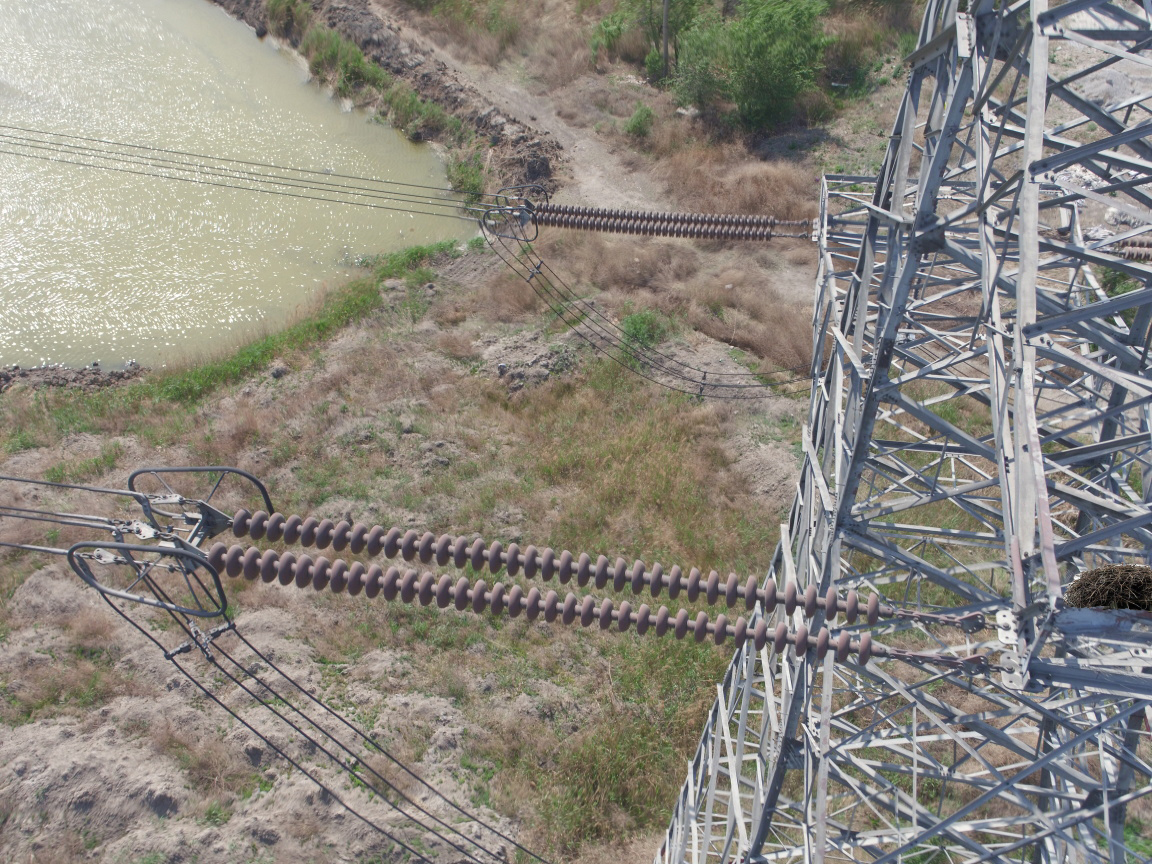nest: (1062, 562, 1151, 620)
